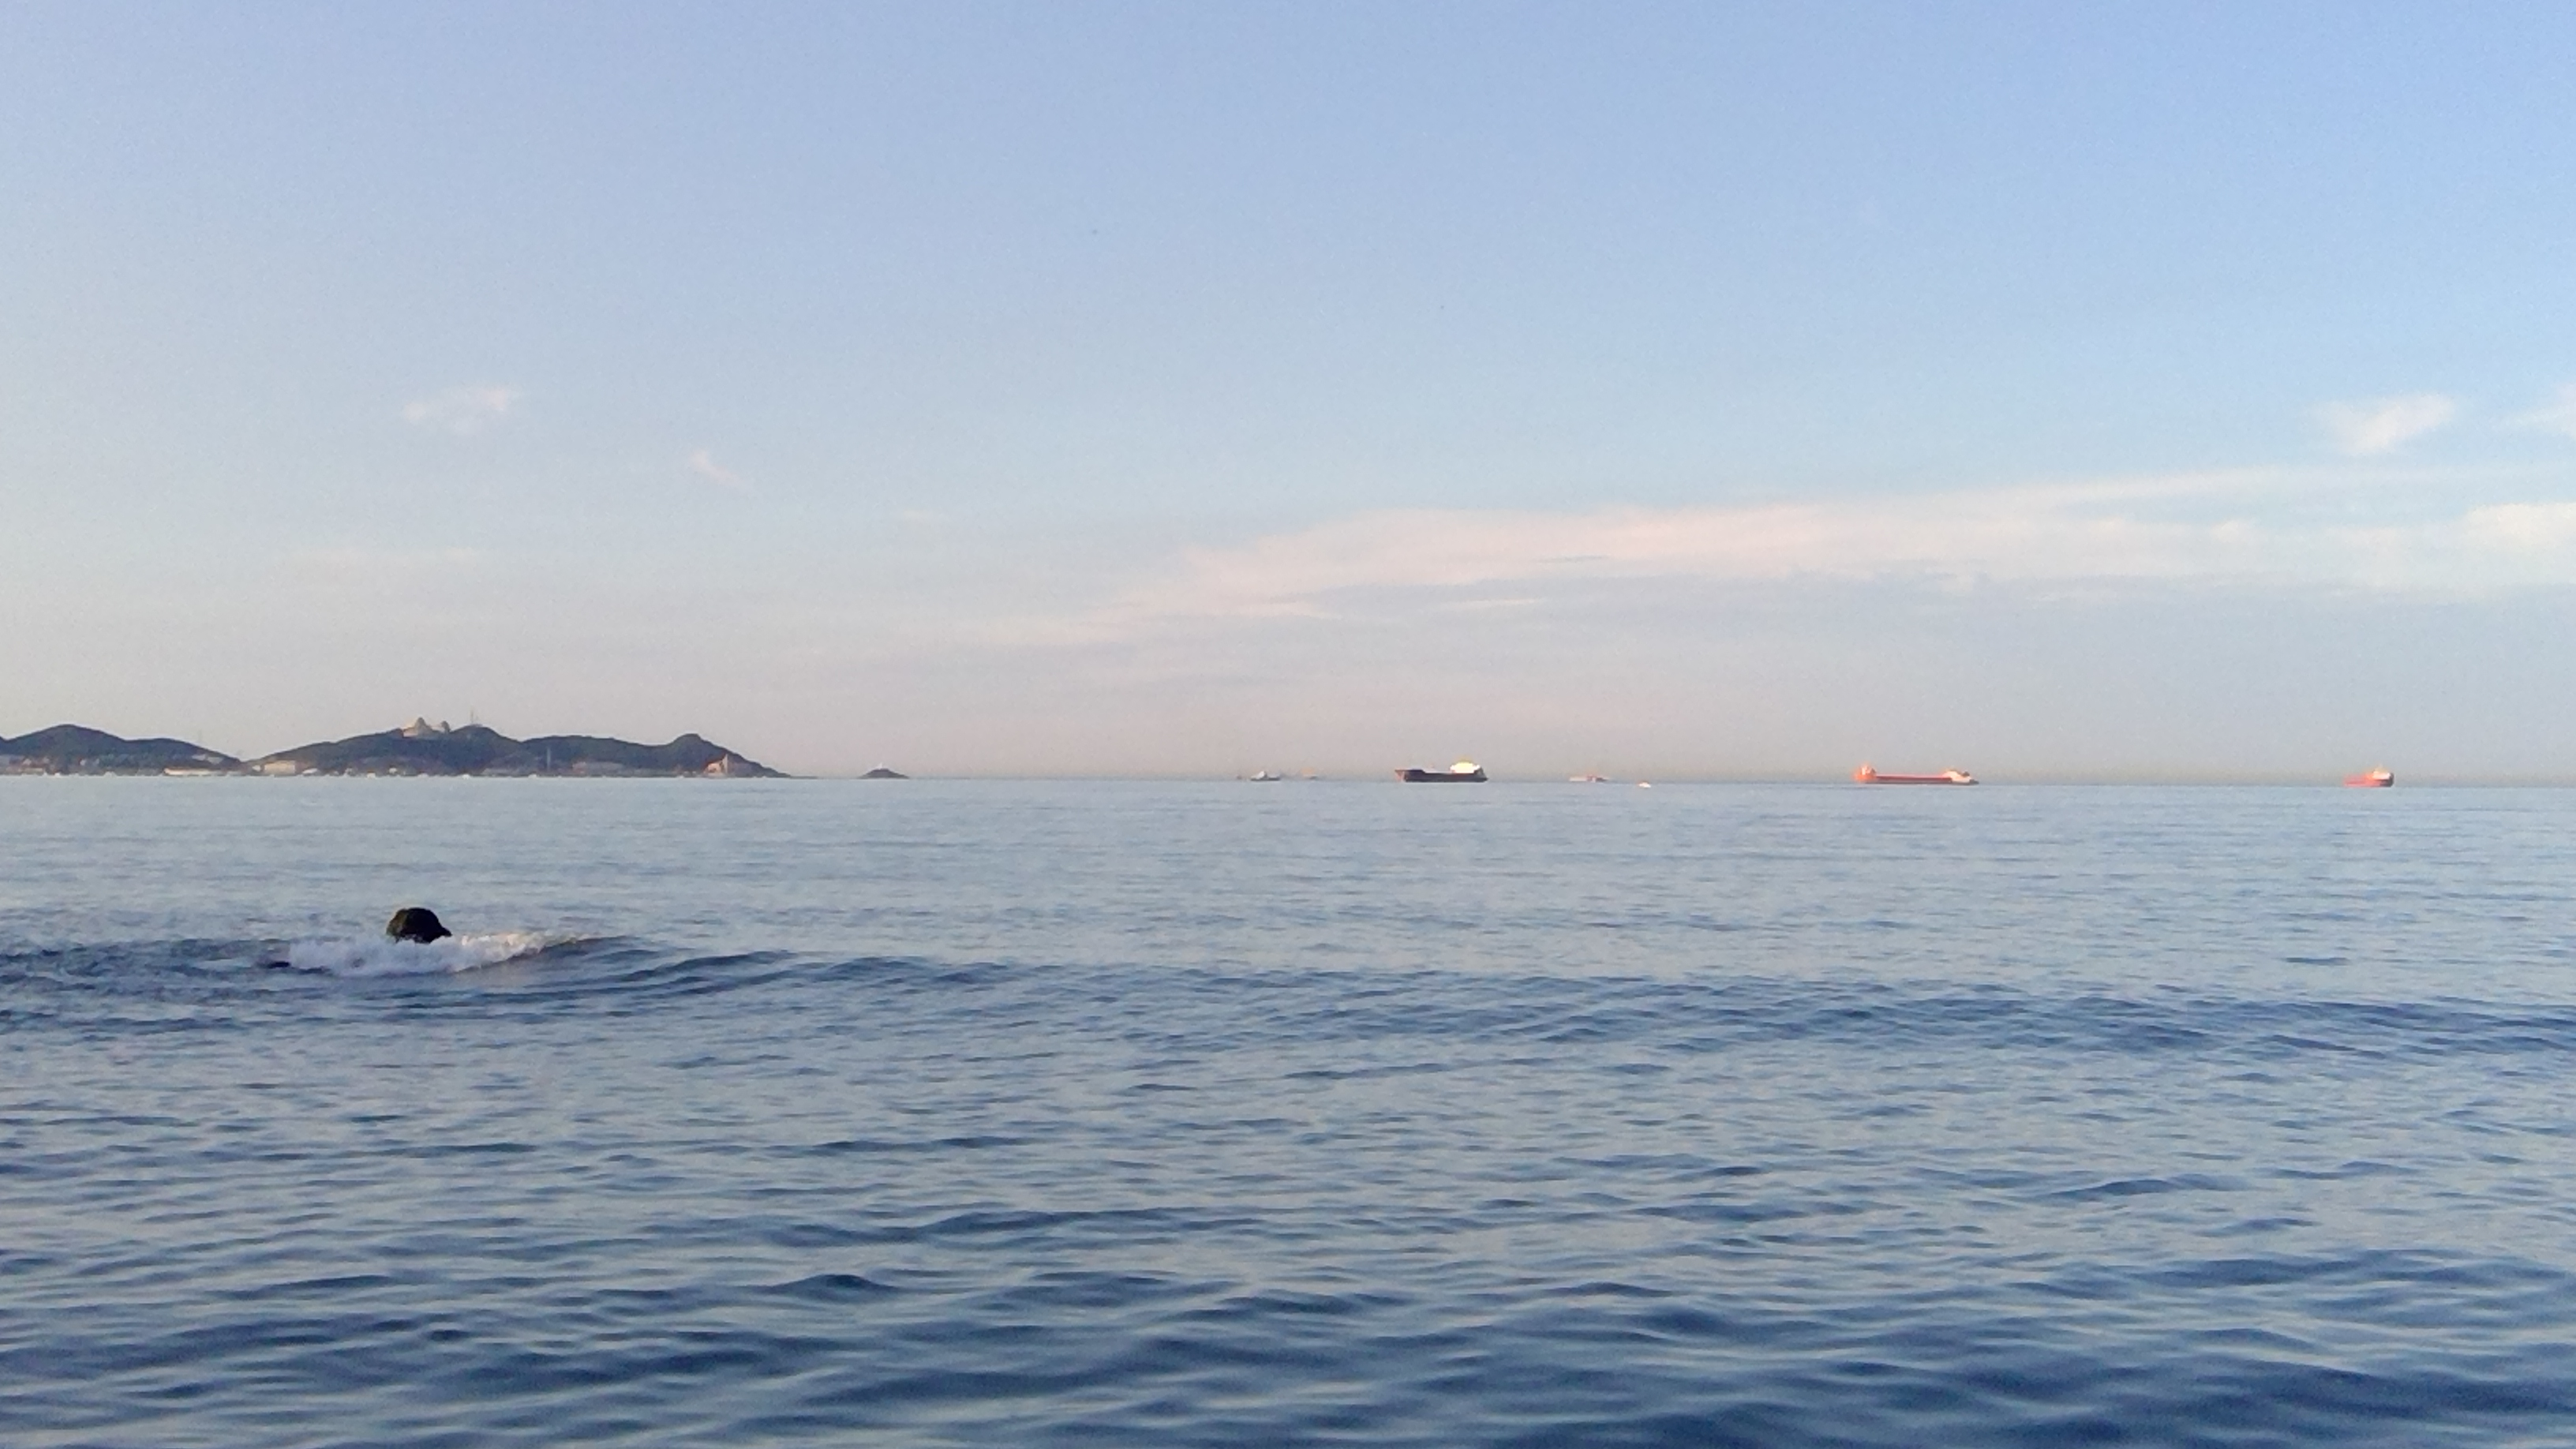ball: (391, 902, 458, 957)
platform: (1851, 759, 1978, 791)
rock: (264, 701, 786, 780), (7, 701, 244, 789)
rubbish: (2344, 759, 2397, 787)
ship: (1398, 754, 1500, 793)
